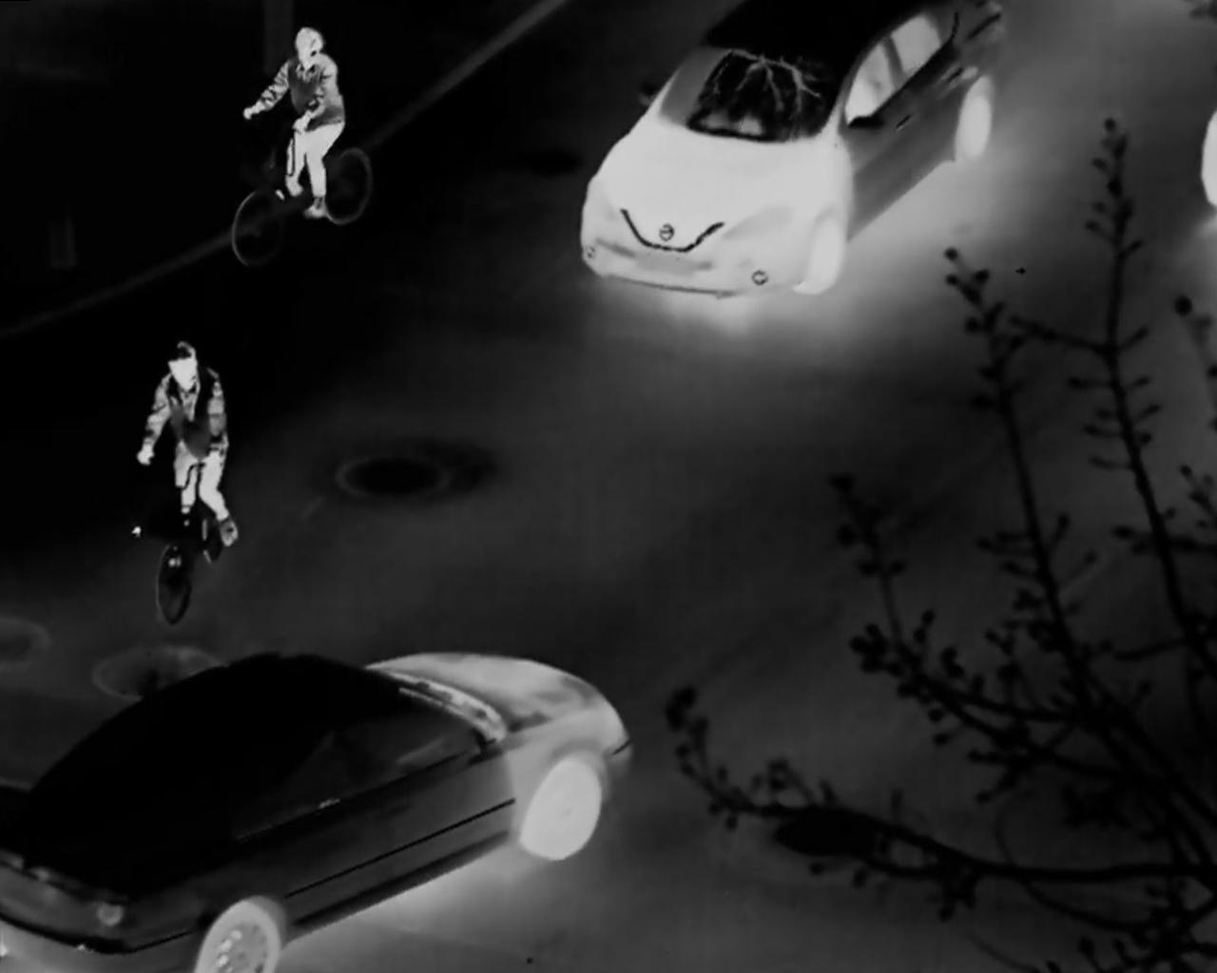person: (242, 29, 345, 220), (145, 345, 224, 546)
